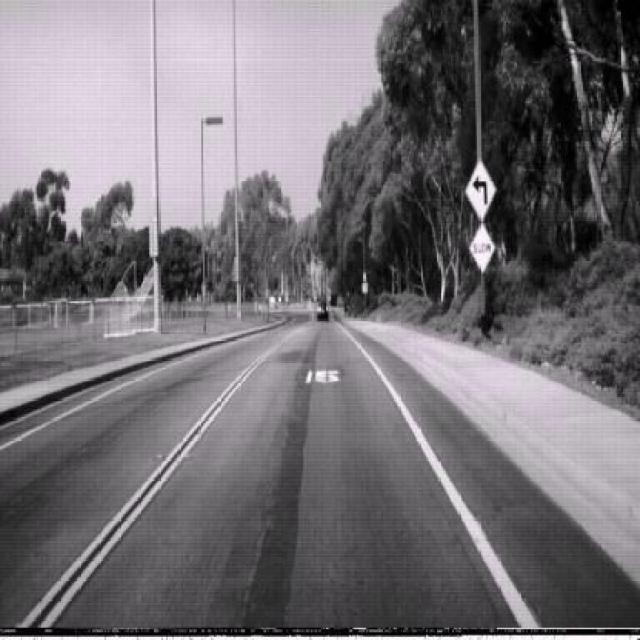slow: (469, 222, 496, 276)
turnLeft: (463, 157, 496, 221)
